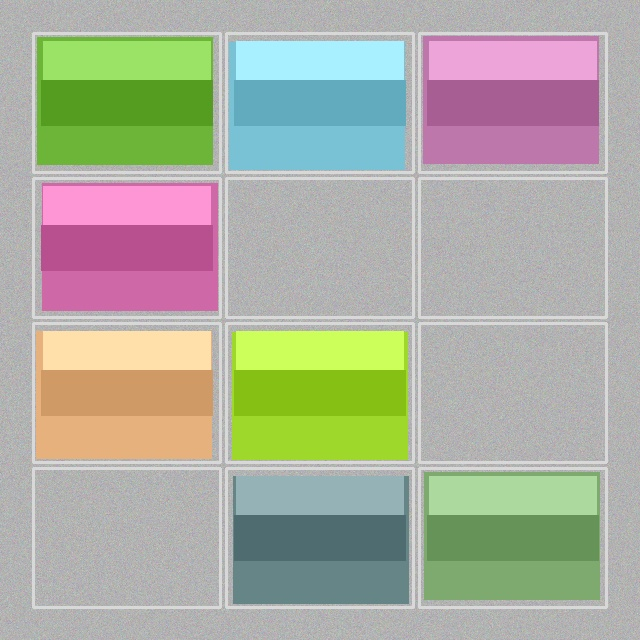space-empty: (228, 180, 411, 315), (421, 180, 604, 315), (421, 325, 604, 460), (35, 470, 218, 605)
space-occupied: (35, 35, 218, 170), (228, 35, 411, 170), (421, 35, 604, 170), (35, 180, 218, 315), (35, 325, 218, 460), (228, 325, 411, 460), (228, 470, 411, 605), (421, 470, 604, 605)
